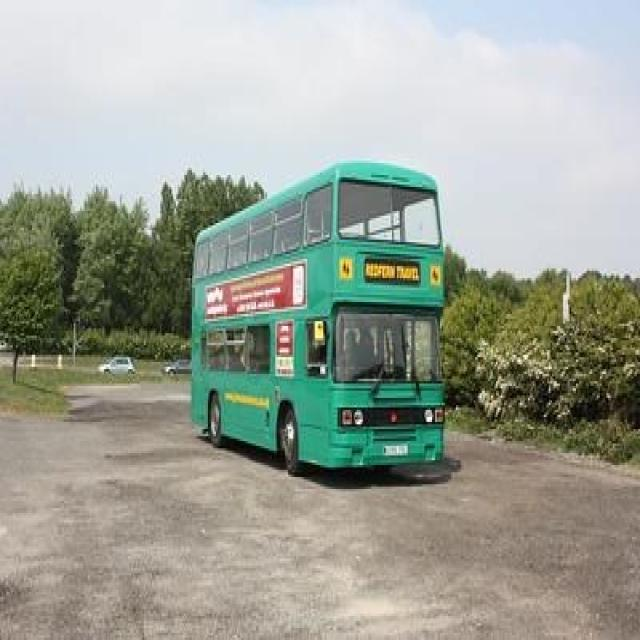Bus: (190, 155, 451, 480)
Car: (95, 352, 137, 377), (161, 353, 193, 377)
